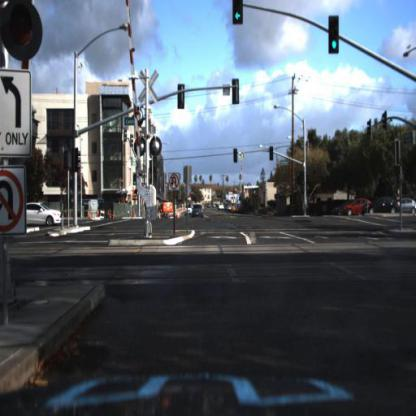car: (27, 203, 65, 228), (365, 195, 400, 222), (343, 196, 367, 219), (333, 198, 352, 218), (400, 198, 415, 219), (191, 203, 205, 224), (398, 198, 416, 214), (215, 199, 227, 215), (184, 204, 193, 224)
trafficLight: (1, 1, 48, 62), (331, 9, 345, 59)
trafficLight-Green: (329, 14, 340, 53)
trafficLight-GreenLeft: (233, 1, 245, 23)
trafficLight-Red: (232, 145, 240, 166), (299, 167, 306, 189), (269, 142, 275, 165)
